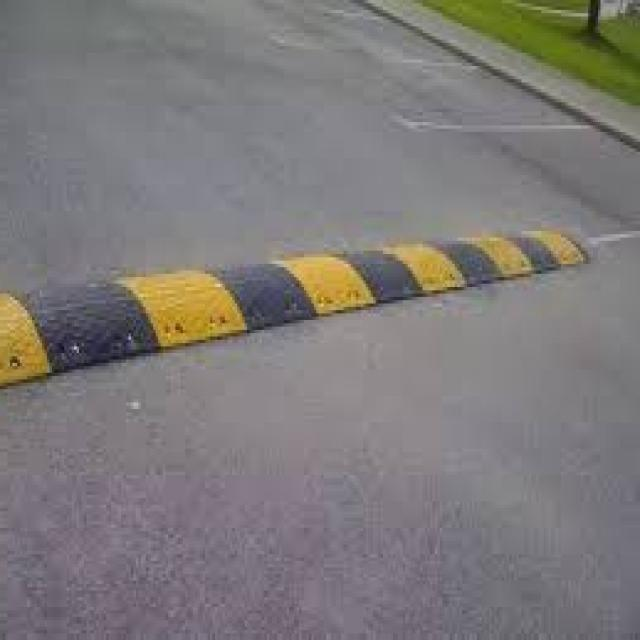speedbreaker: (0, 215, 598, 356)
